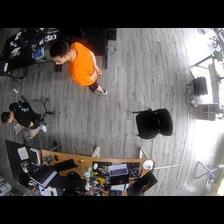normal: (49, 40, 109, 95), (2, 95, 46, 139)
